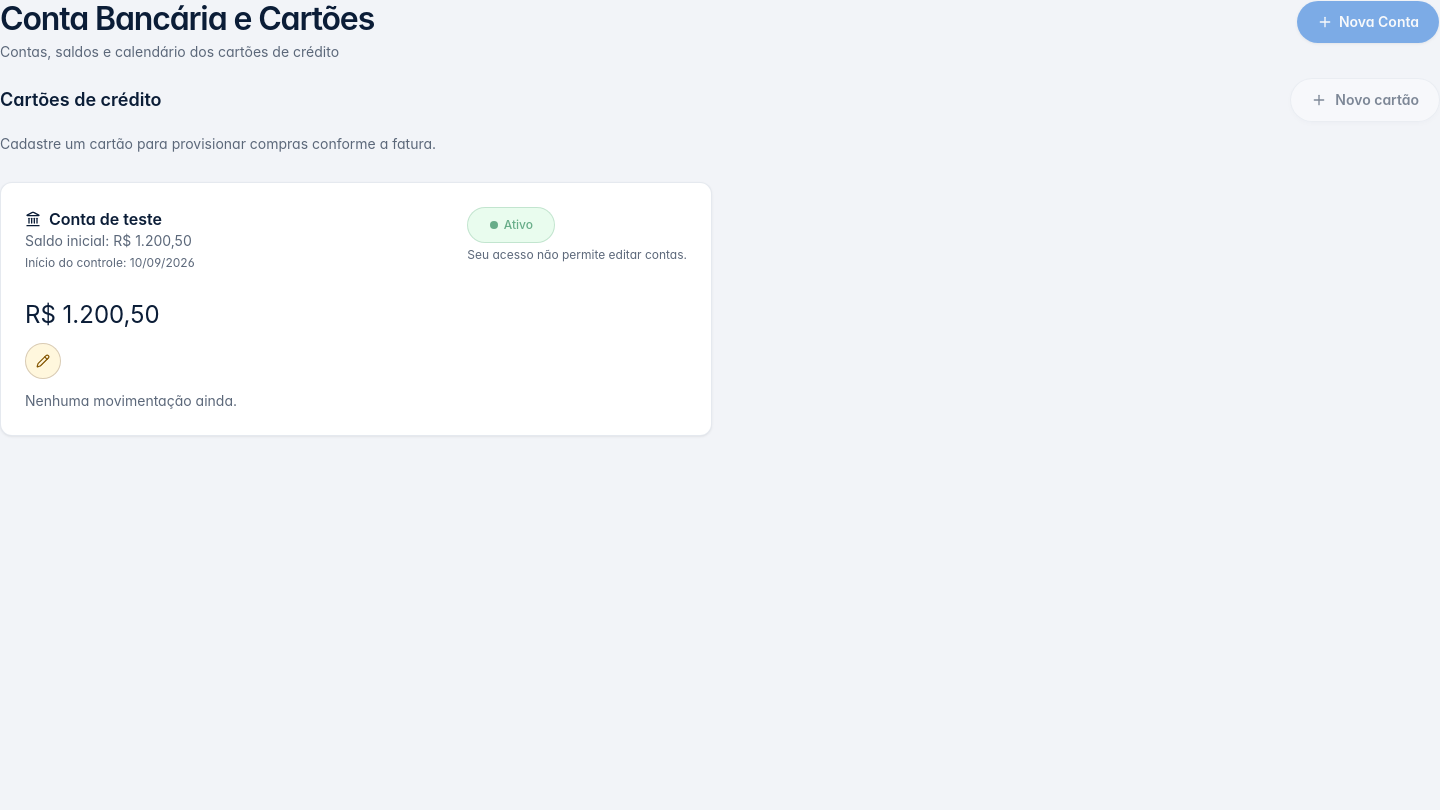
Test: preenche a base existente, envia valor/data somente ao salvar e mantém erros visíveis
This screenshot has width=1440, height=810.
Click the button named "Editar saldo inicial": (43, 361) [25,343,61,379]
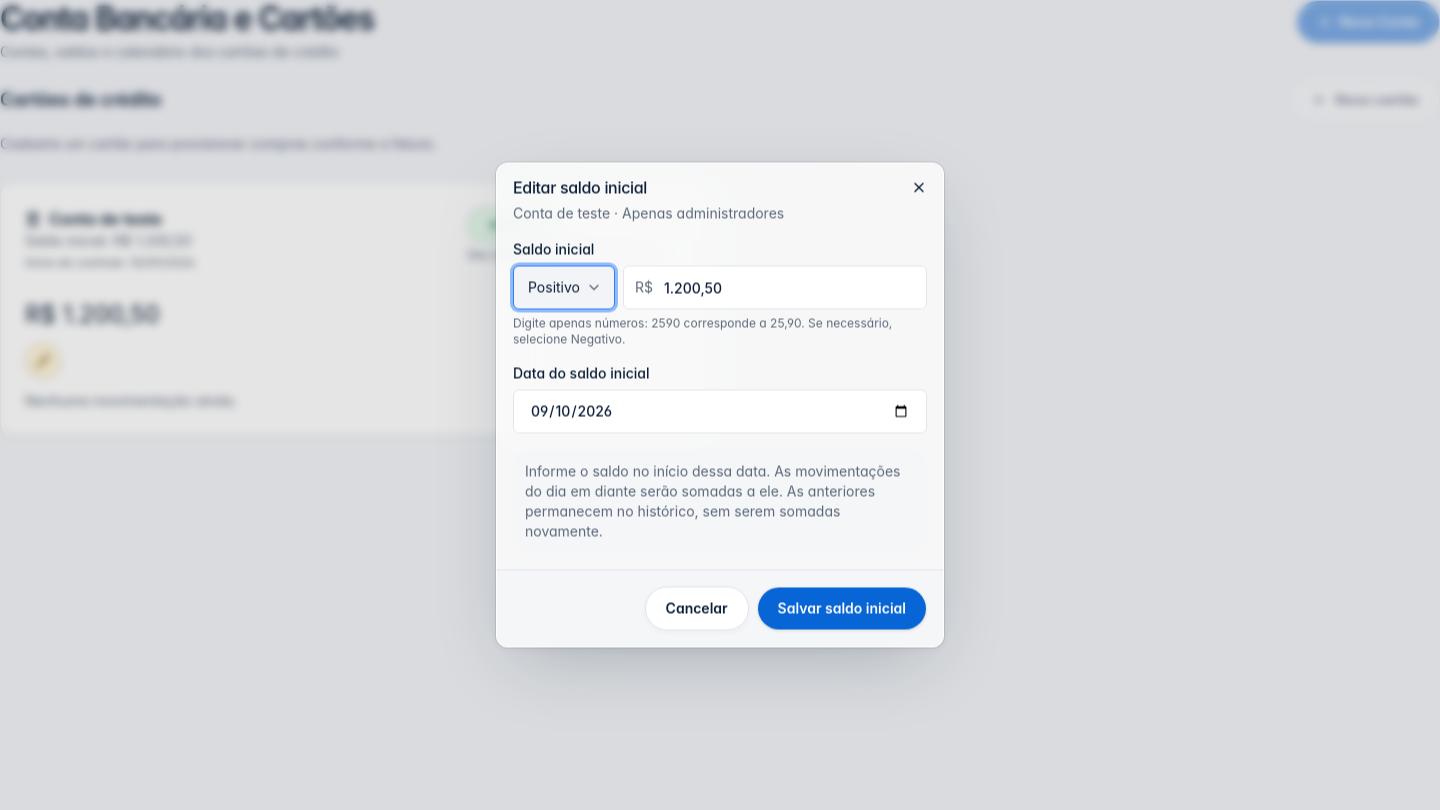
Expected: the field labelled "Saldo inicial" holds "1.200,50"
Expected: the date field labelled "Data do saldo inicial" holds "2026-09-10", [513,390,927,434]
Replace the text in the field labelled "Saldo inicial" with "2590": (775, 288) [623,266,927,310]
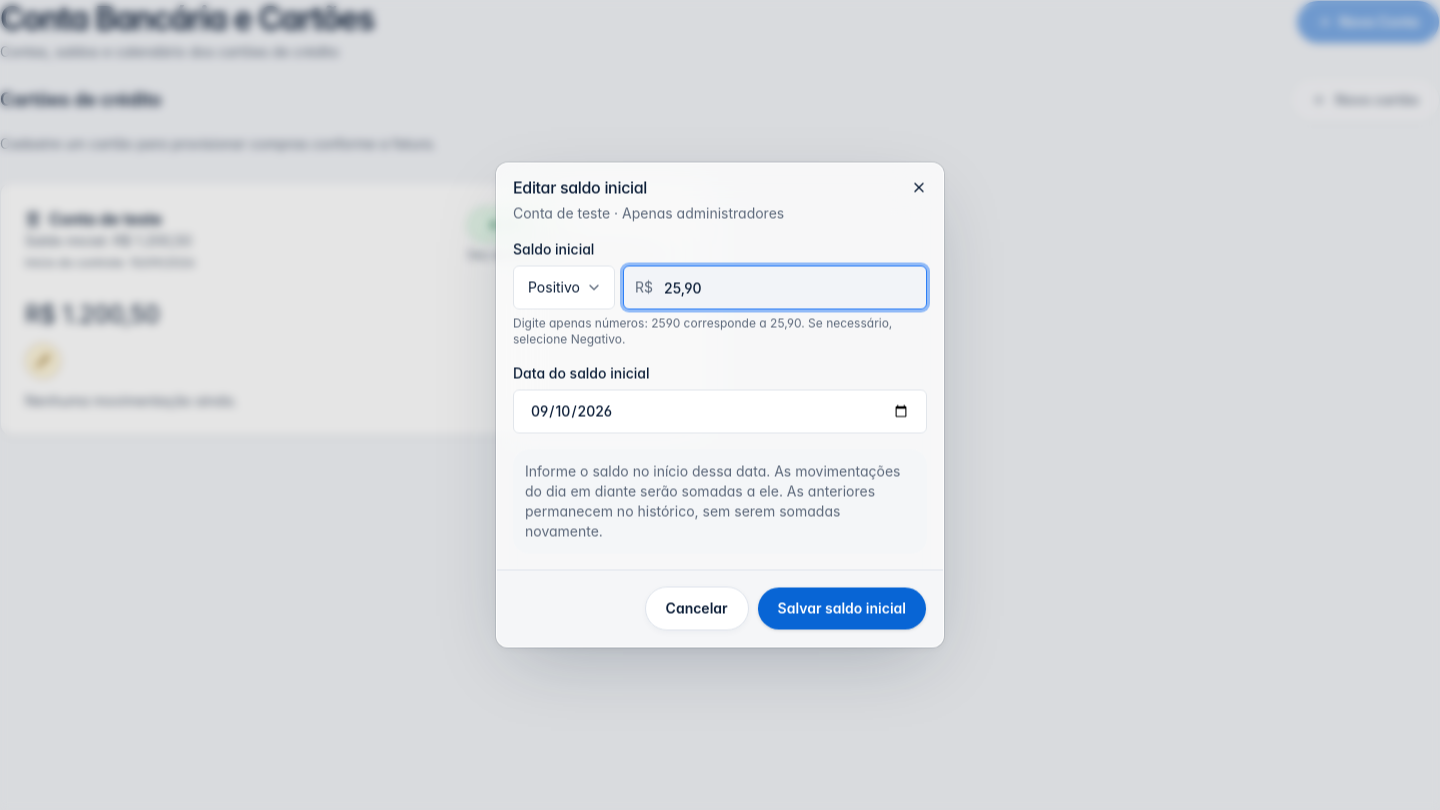
Click the dropdown named "Sinal do saldo": (564, 288) [513,266,615,310]
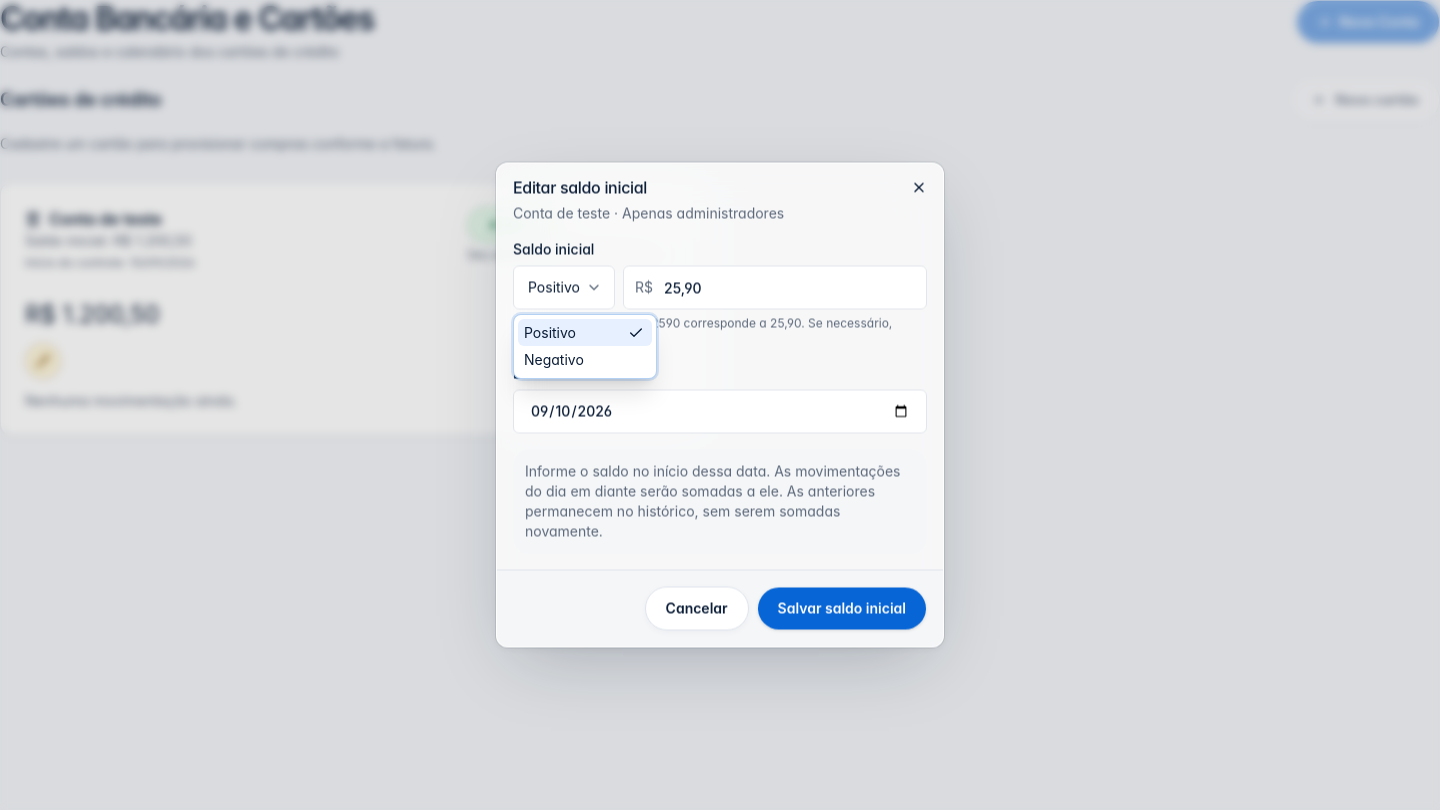
Click the option "Negativo": (554, 360) [524,351,584,368]
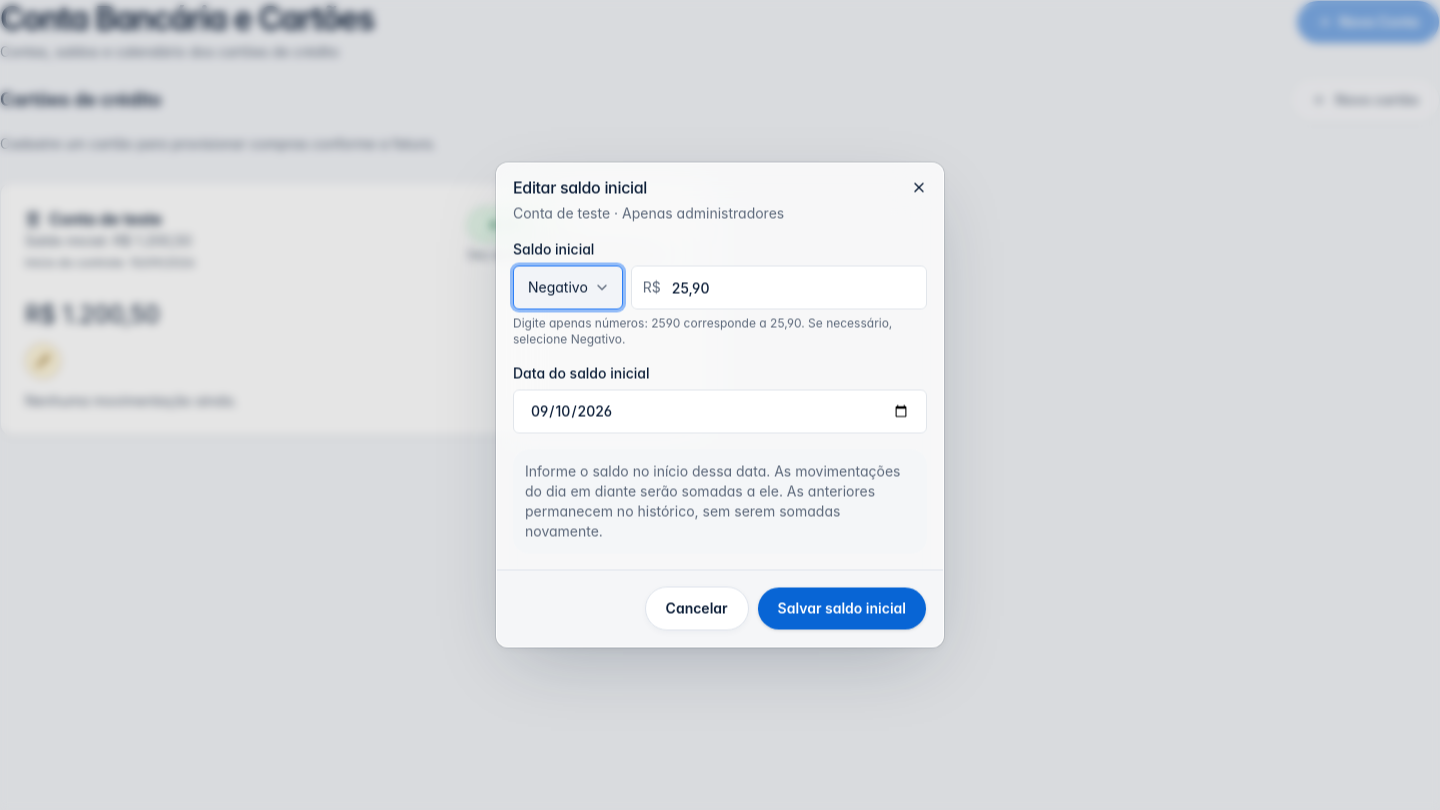
Click the button "Salvar saldo inicial": (842, 608) [757,586,927,630]
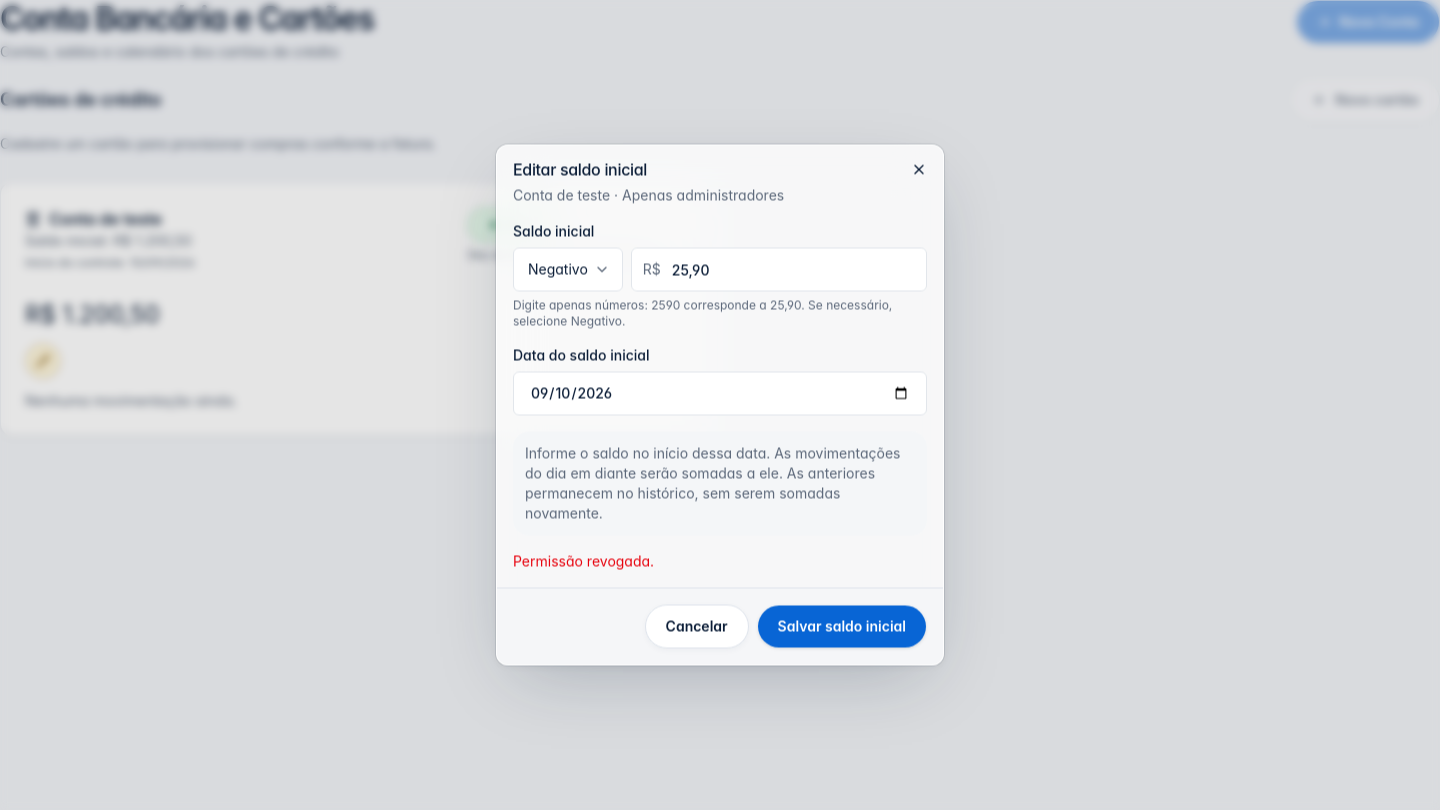
Expected: the button "Salvar saldo inicial" is enabled
Expected: the message reads "Permissão revogada.", [513,552,654,570]
# O alerta pode aparecer antes de a transição liberar o botão para nova tentativa.
Click the button "Salvar saldo inicial": (842, 626) [757,604,927,648]
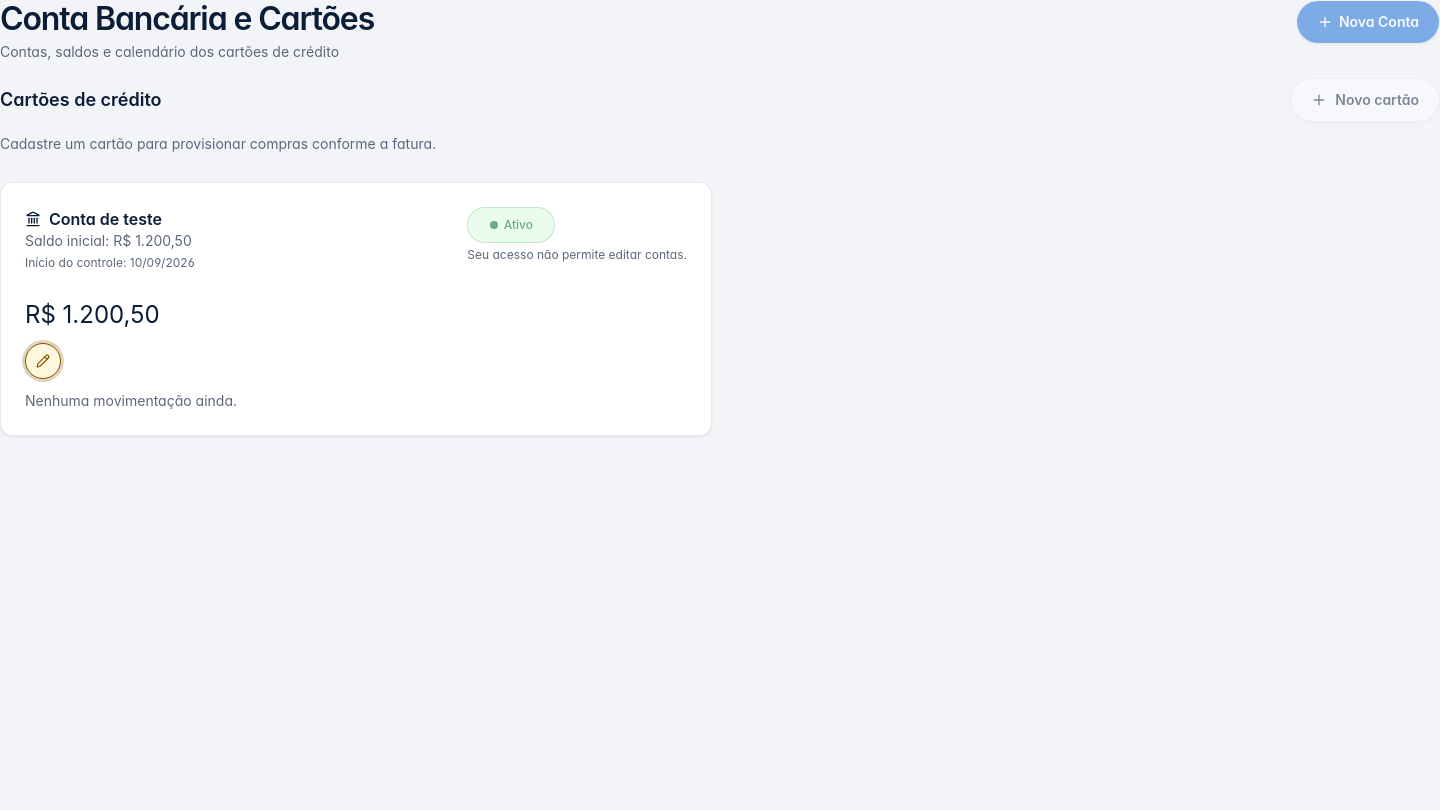
Expected: the dialog is gone
